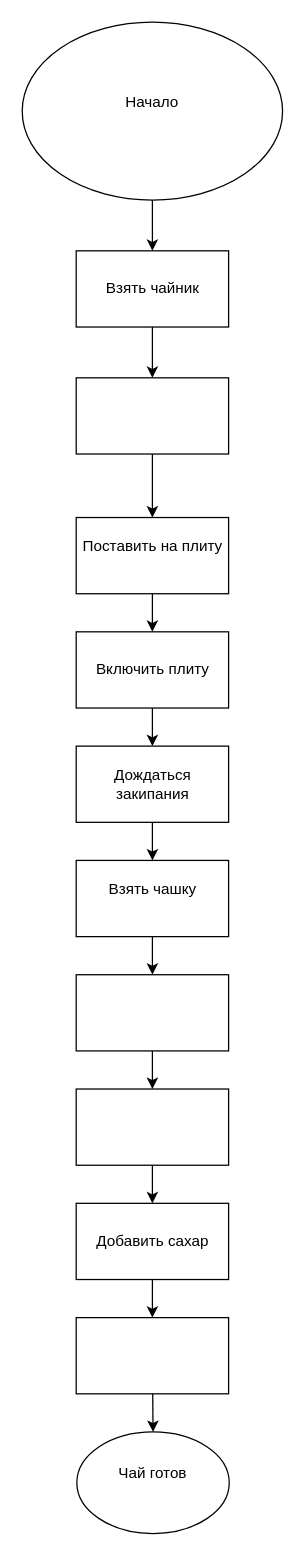
Some shapes in this 305 by 1556 pixel diagram are drawn without their labels. Here are the shapes that lost their labels. From the top down, the centre of each, then its label:
At pixel 152 415: "Налить воду".
At pixel 152 1012: "Положить чайный пакетик".
At pixel 152 1126: "Налить кипяток".
At pixel 152 1355: "Размешать".
